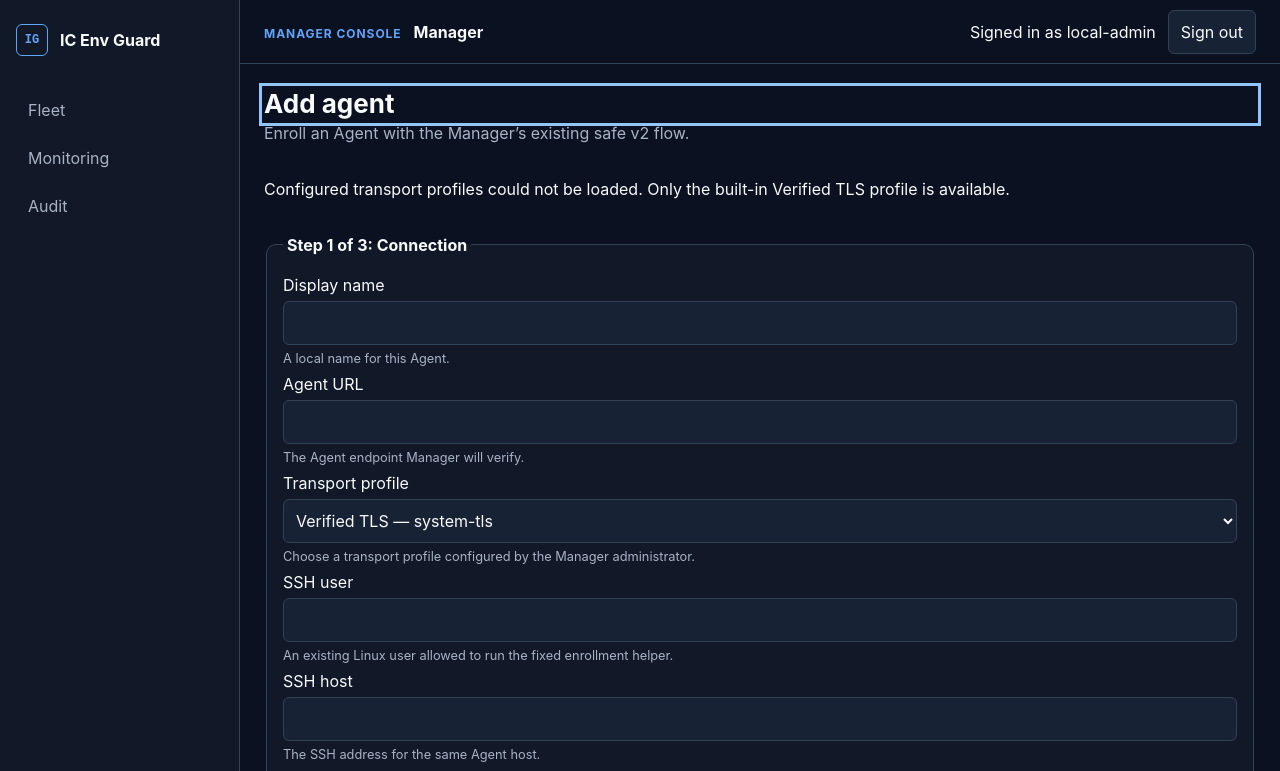
Test: Add agent flow › shows automatic progress without an unusable CLI instruction while SSH is running
Type "https://10.0.0.4:8765" into the field labelled "Agent URL". click: (760, 422)
box: [283, 400, 1237, 444]
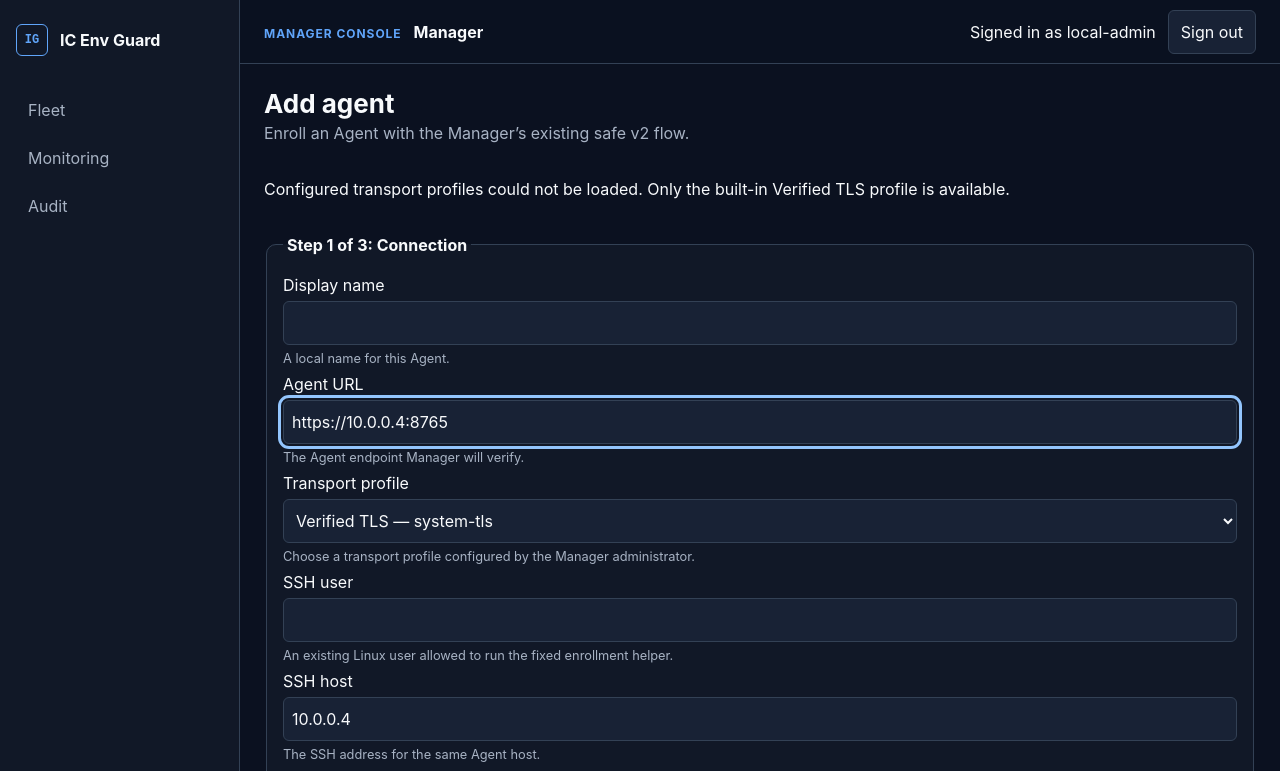
Type "edaops" into the field labelled "SSH user". click: (760, 620)
box: [283, 598, 1237, 642]
(page scrolled)
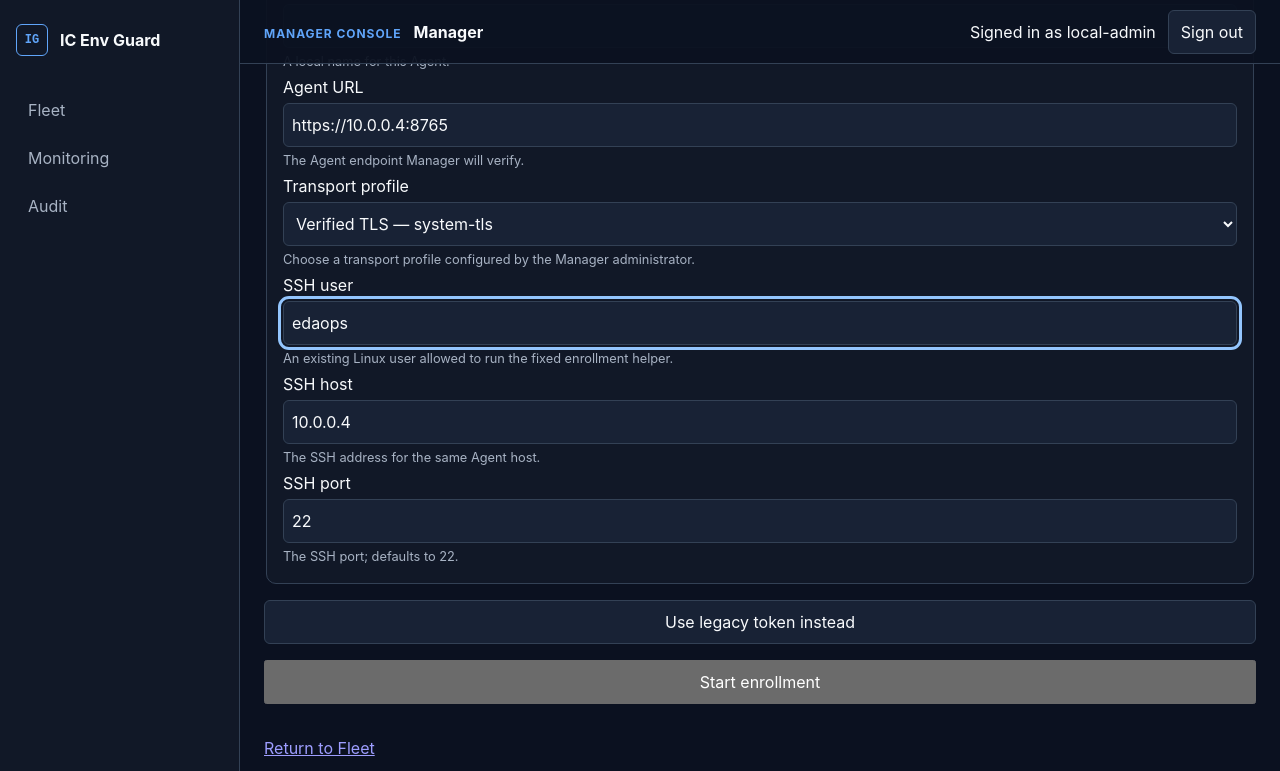
Check: the field labelled "SSH host" holds "10.0.0.4", box [283, 400, 1237, 444]
Click the button "Start enrollment". click: (760, 682)
box: [264, 660, 1256, 704]
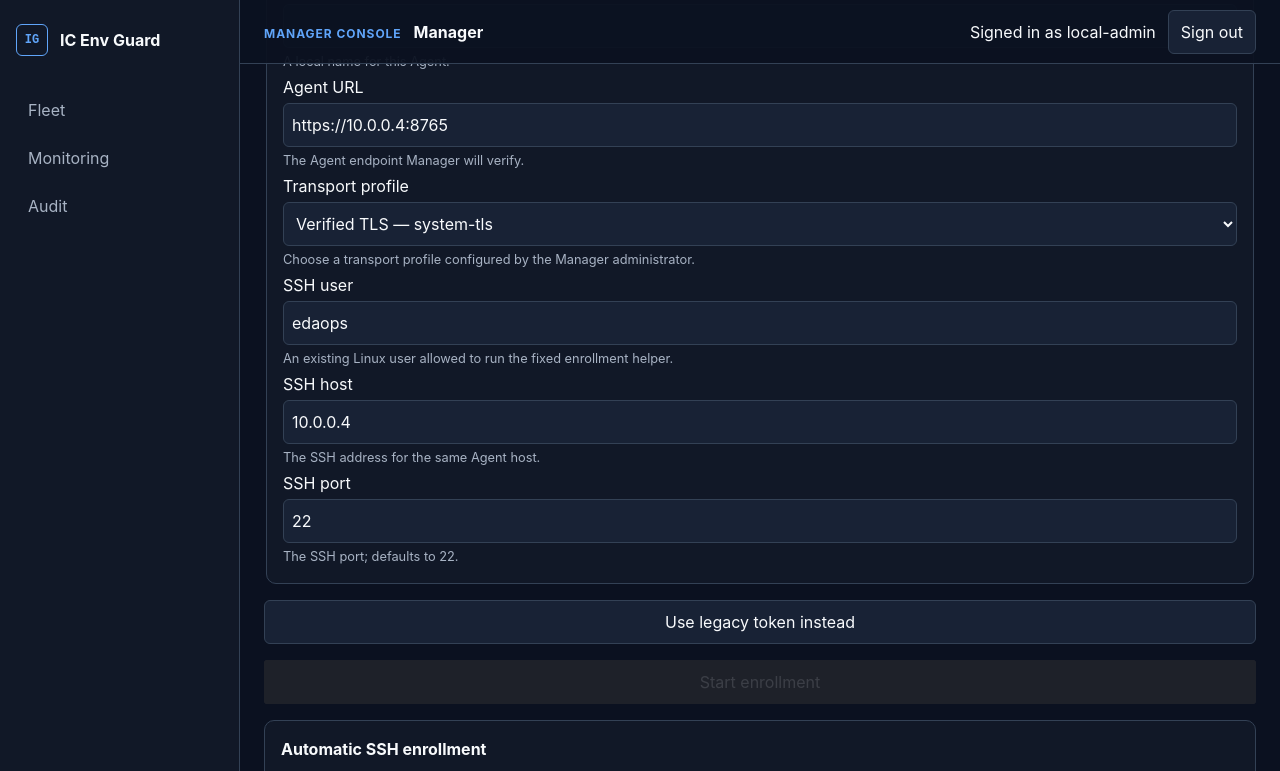
Check: the heading "Automatic SSH enrollment" is shown, box [281, 739, 486, 759]
